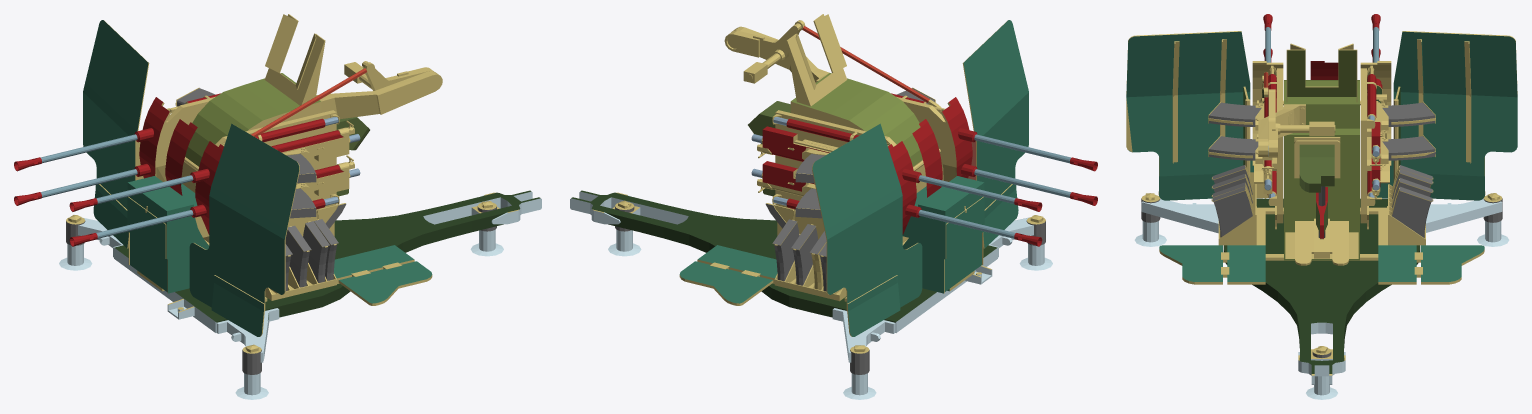
Rendered from Flack38-1.fbx.
3 views of the same model, side by side, from view 1: azimuth 30°, elevation 25°; view 2: azimuth 150°, elevation 25°; view 3: azimuth 270°, elevation 25° (orthographic). The views are drawn at different scales.
Parts seen in each view (by area): view 1: pasted__pasted__pasted__base, attack; view 2: pasted__pasted__pasted__base, attack; view 3: pasted__pasted__pasted__base, attack.
Boxes of the visible parts, x1=… form: pasted__pasted__pasted__base: x1=59, y1=14, x2=541, y2=399; attack: x1=14, y1=128, x2=209, y2=246; pasted__pasted__pasted__base: x1=570, y1=14, x2=1052, y2=399; attack: x1=902, y1=128, x2=1097, y2=246; pasted__pasted__pasted__base: x1=1126, y1=31, x2=1517, y2=399; attack: x1=1263, y1=14, x2=1381, y2=82.
Size of the model in its own units: 482 by 252 by 342.
